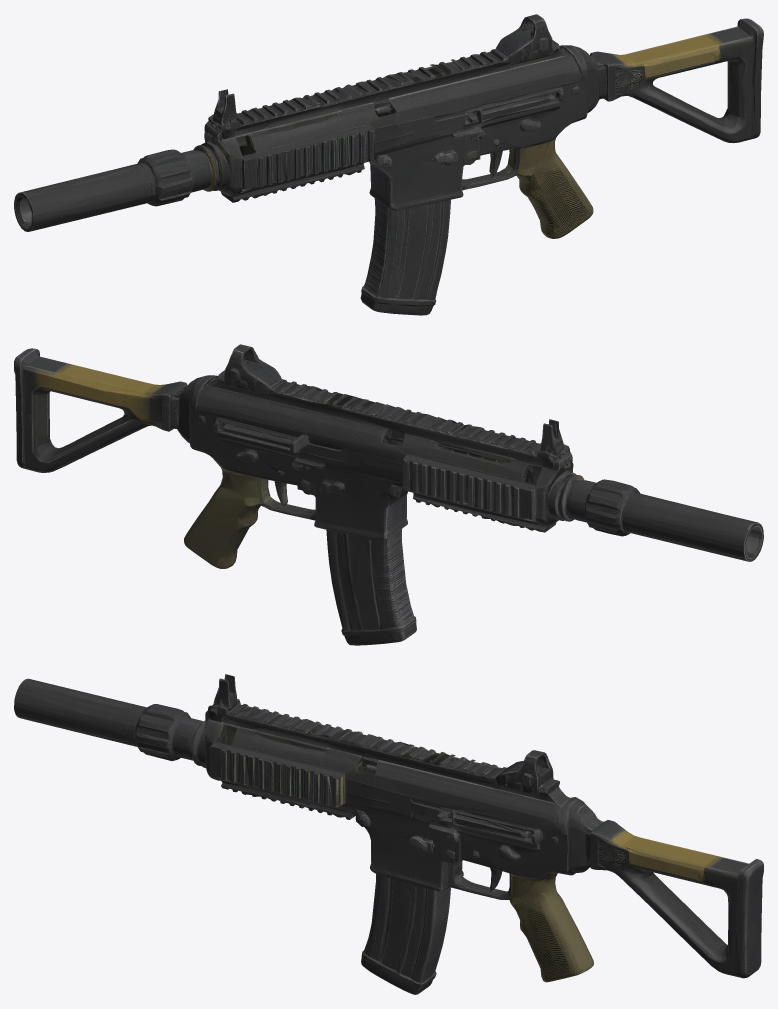
The picture shows the model from 3 angles, top to bottom: view 1: azimuth 30°, elevation 25°; view 2: azimuth 150°, elevation 25°; view 3: azimuth 330°, elevation 25°; orthographic projection.
Size of the model in its own units: 1.9 by 0.6576 by 0.2047.
Materials: 1 (1 with a texture image).
